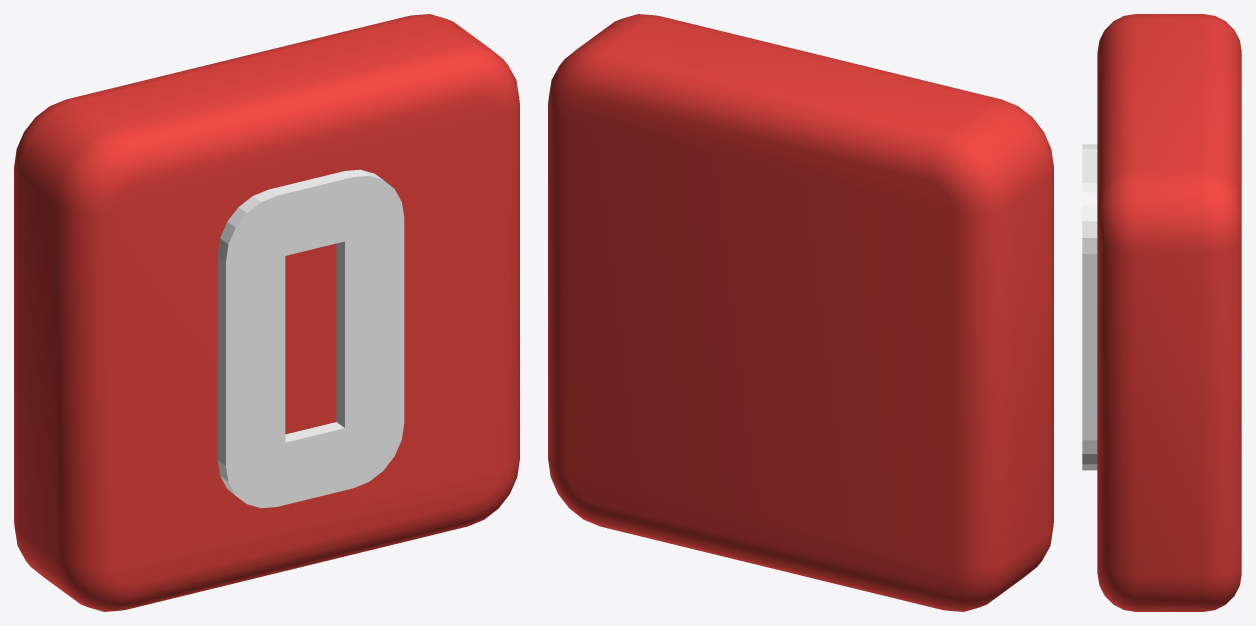
Rendered from o_button_blood_type.glb.
3 renders of one model, left to right at view 1: azimuth 30°, elevation 25°; view 2: azimuth 150°, elevation 25°; view 3: azimuth 270°, elevation 25°, orthographic. The views are drawn at different scales.
Visible parts, largest first — view 1: Cube.6600, Cube.6601; view 2: Cube.6600; view 3: Cube.6600, Cube.6601.
Boxes of the visible parts, x1,y1,x2,y2 form: Cube.6600: [14, 14, 519, 611]; Cube.6601: [217, 169, 404, 508]; Cube.6600: [548, 14, 1053, 611]; Cube.6600: [1097, 14, 1241, 611]; Cube.6601: [1082, 144, 1097, 470].
Size of the model in its own units: 2.2 by 2.2 by 0.73.
1 material, 1 textured.
